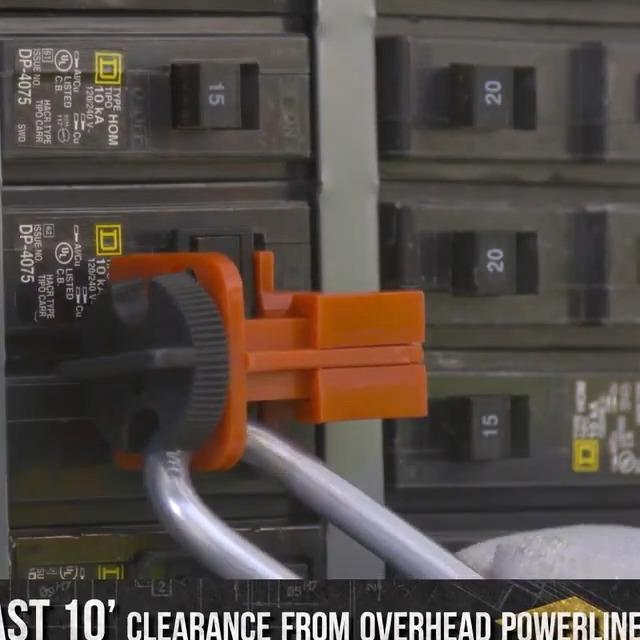Person: (470, 438, 640, 579)
